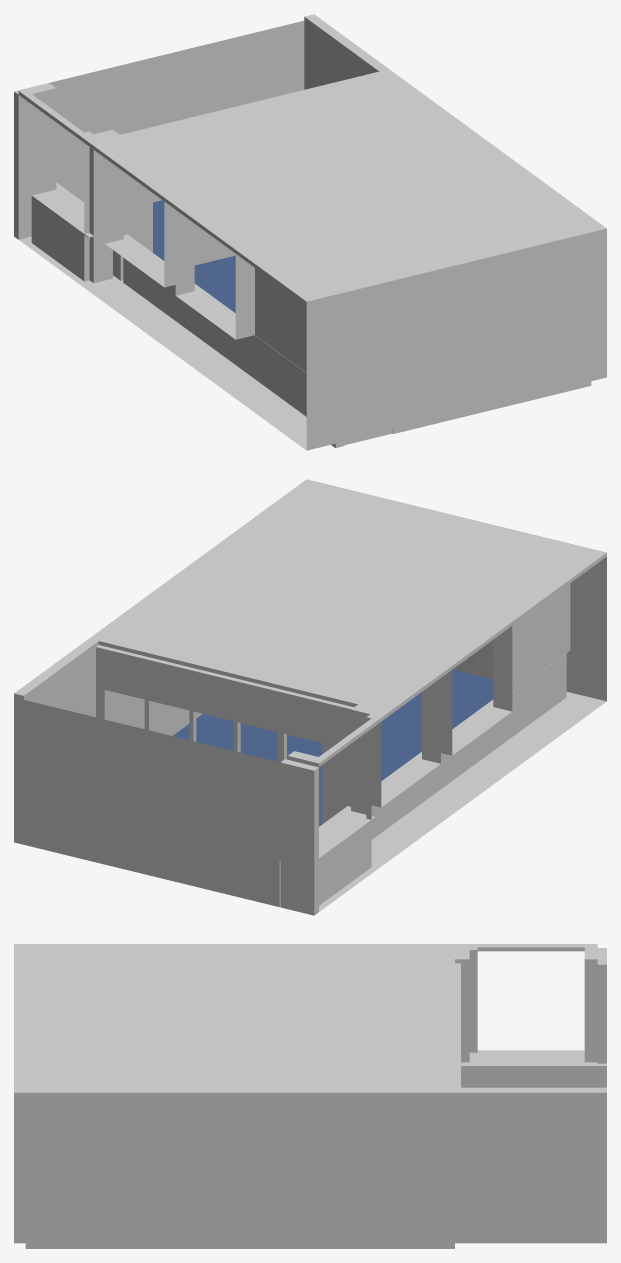
Rendered from labmodell_v1.fbx.
3 views of the same model, one above another, from view 1: azimuth 30°, elevation 25°; view 2: azimuth 150°, elevation 25°; view 3: azimuth 270°, elevation 25° (orthographic).
Parts seen in each view (by area): view 1: Model; view 2: Model; view 3: Model.
Part boxes in pixels (x1,y1,x2,y2): Model: [14, 14, 606, 450]; Model: [14, 479, 606, 915]; Model: [14, 944, 606, 1248].
Bounding box in the file's own units: 6.09 × 3.08 × 10.28.
